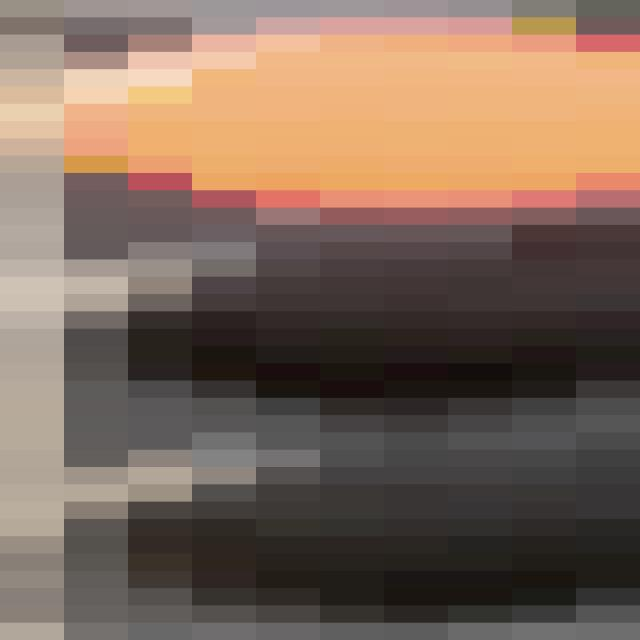red_light: (0, 28, 640, 612)
